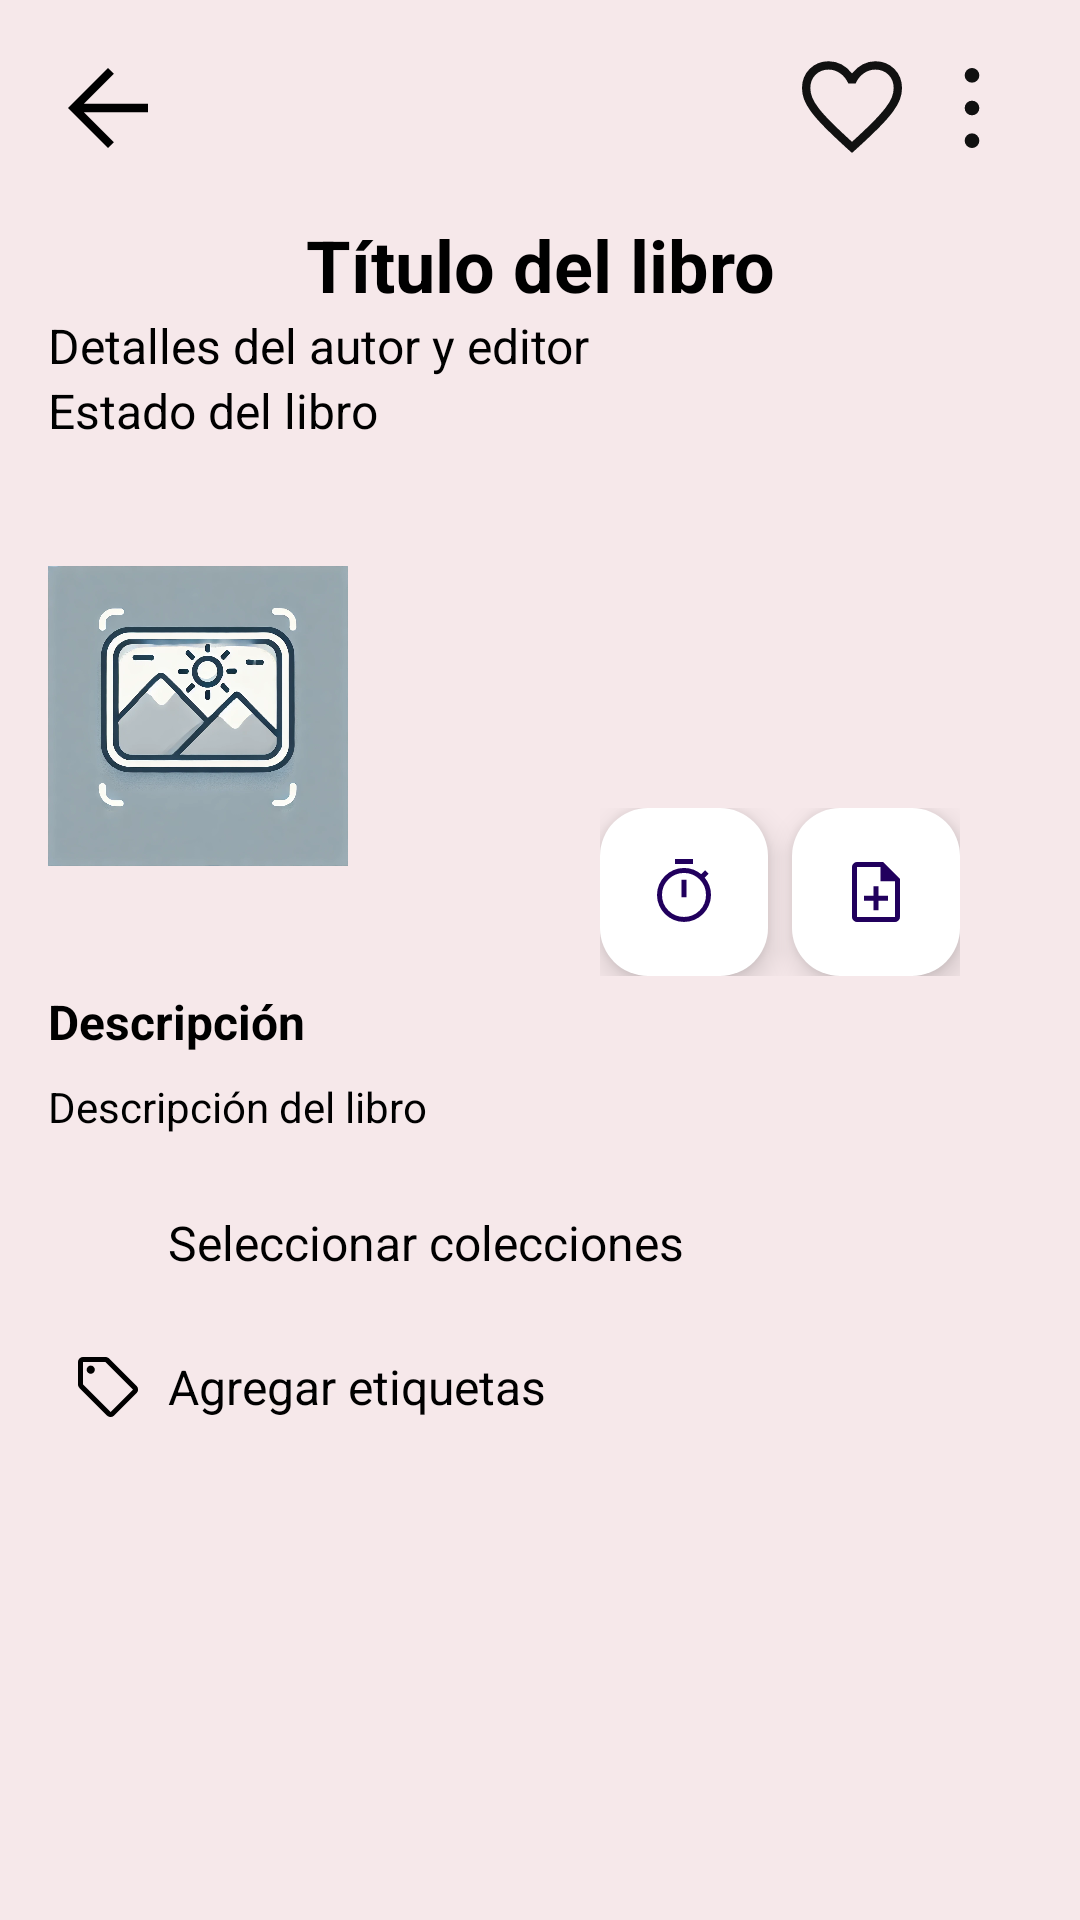

Screen size 1080 x 1920. Icon name, then its center in pixels as (x=x, y=y):
Agregar nota: (x=876, y=892)
Cronómetro: (x=684, y=892)
Favorito: (x=852, y=107)
Menú: (x=972, y=108)
Volver: (x=108, y=108)
